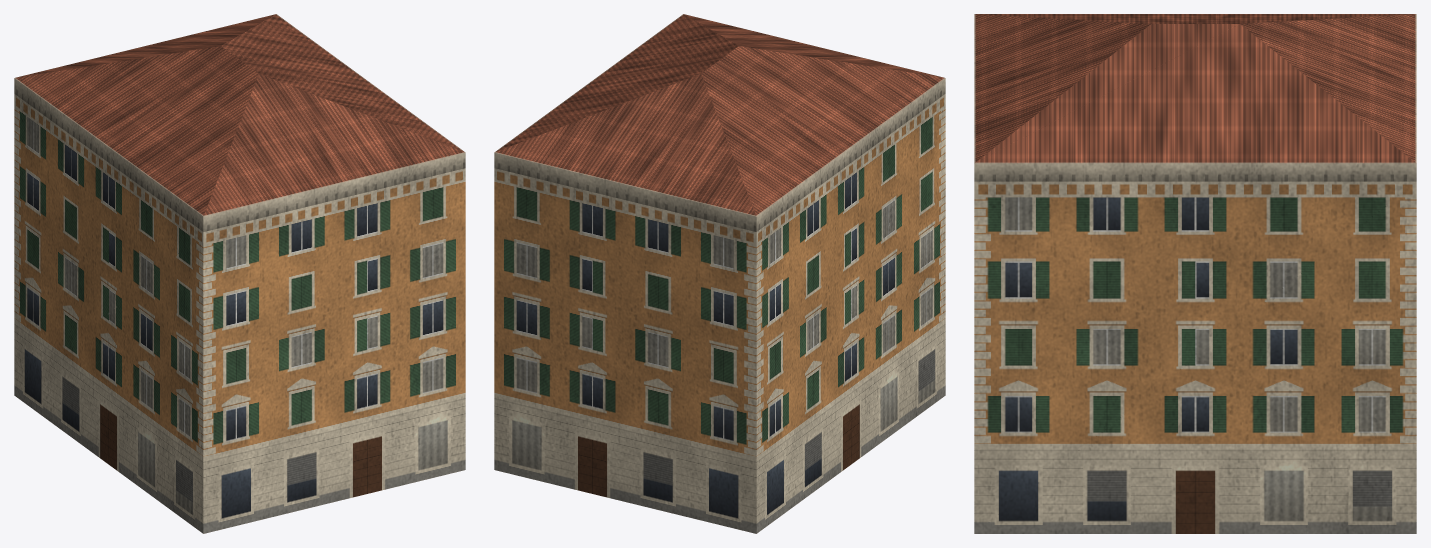
The model's file is SM_Fondale_Palazzo_C_LOD2.fbx.
The picture shows the model from 3 angles, left to right: view 1: azimuth 30°, elevation 25°; view 2: azimuth 150°, elevation 25°; view 3: azimuth 270°, elevation 25°; orthographic projection. The views are drawn at different scales.
Visible parts, largest first — view 1: SM_Fondale_Palazzo_C_LOD2; view 2: SM_Fondale_Palazzo_C_LOD2; view 3: SM_Fondale_Palazzo_C_LOD2.
Part boxes in pixels (x1,y1,x2,y2): SM_Fondale_Palazzo_C_LOD2: (14, 14, 465, 533); SM_Fondale_Palazzo_C_LOD2: (494, 14, 945, 533); SM_Fondale_Palazzo_C_LOD2: (974, 14, 1416, 533).
Bounding box in the file's own units: 1600 × 2000 × 2173.
1 material, 1 textured.
